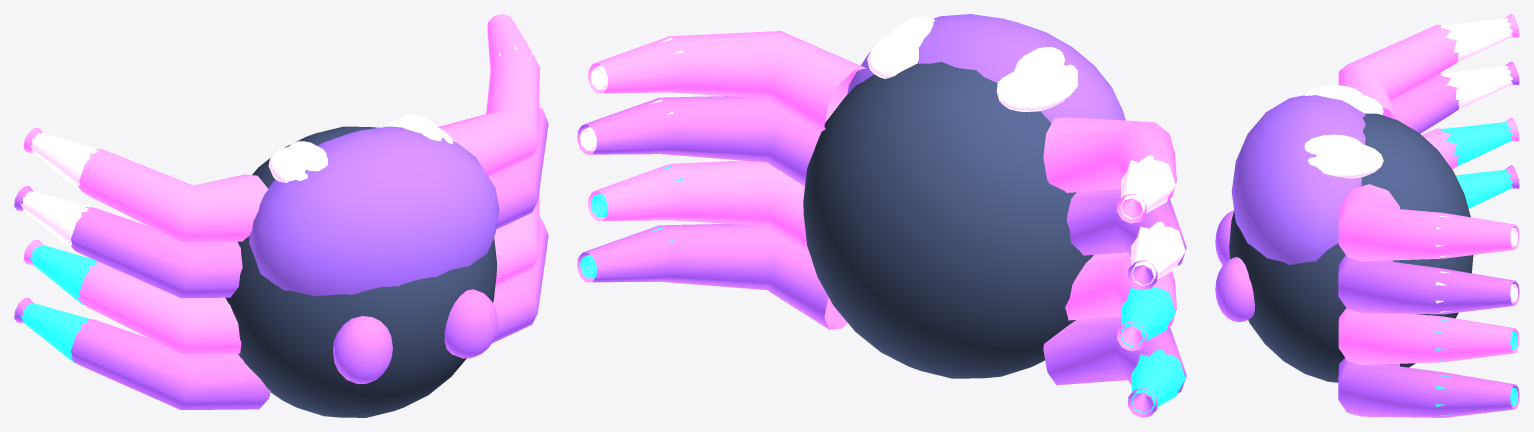
The model's file is SpalakhSpiderNeon_v094.glb.
3 renders of one model, left to right at view 1: azimuth 30°, elevation 25°; view 2: azimuth 150°, elevation 25°; view 3: azimuth 270°, elevation 25°, orthographic. The views are drawn at different scales.
Size of the model in its own units: 1.06 by 0.568 by 0.5962.
